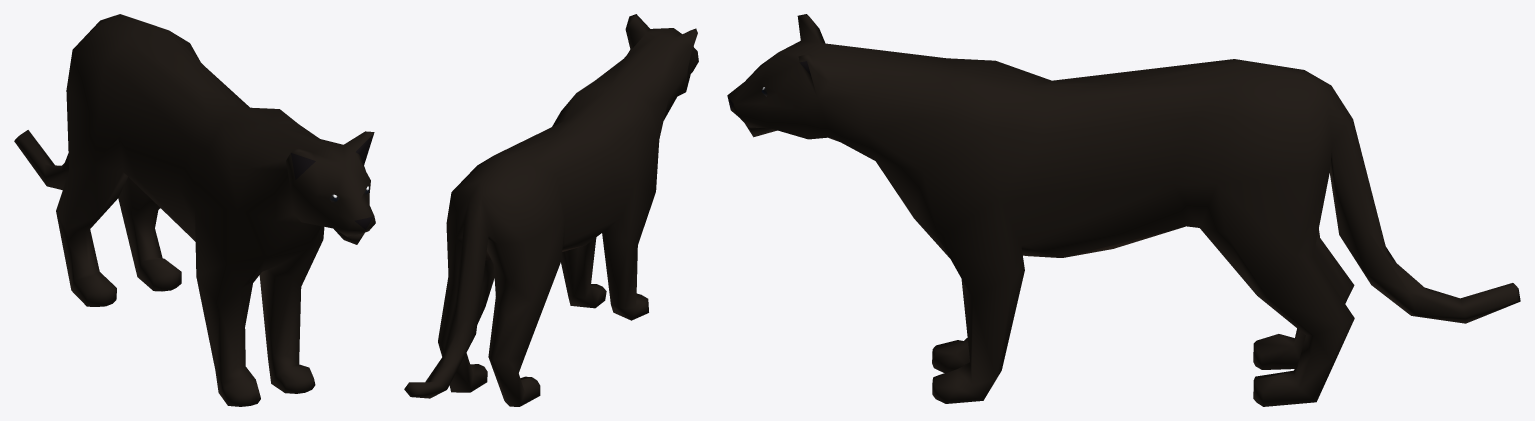
3 renders of one model, left to right at view 1: azimuth 30°, elevation 25°; view 2: azimuth 150°, elevation 25°; view 3: azimuth 270°, elevation 25°, orthographic. The views are drawn at different scales.
Visible parts, largest first — view 1: Panther01; view 2: Panther01; view 3: Panther01.
Boxes of the visible parts, left/top/right/bottom form: Panther01: left=14, top=14, right=375, bottom=406; Panther01: left=404, top=14, right=698, bottom=406; Panther01: left=727, top=14, right=1520, bottom=406.
Size of what is drawn, in the model's own units: 0.4916 by 1.24 by 2.59.
Materials: 1 (1 with a texture image).
